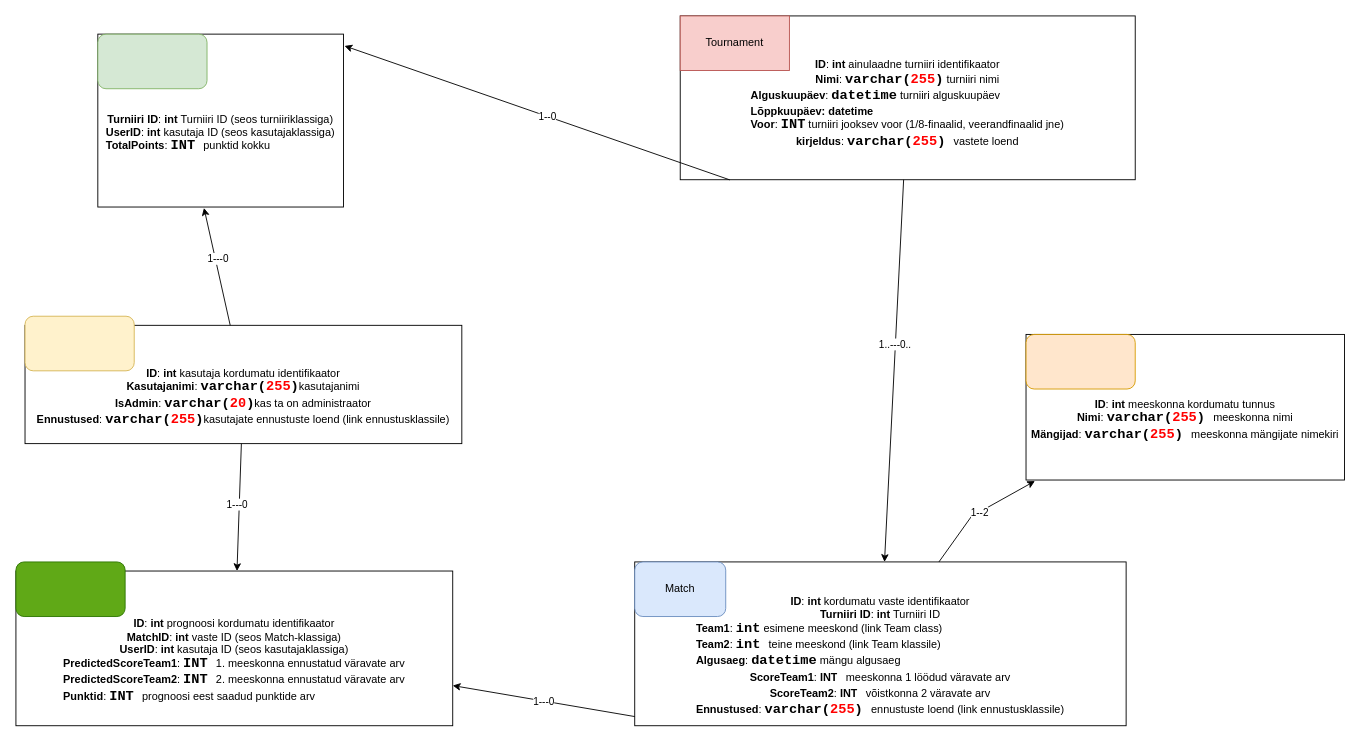
This 1360x742 diagram has some shape labels left out. The shapes that lost their labels are listed below. From the top down, each one's centre as x and y in pixels, then its label:
the point at 152,61: Ranking
the point at 79,343: User
the point at 1080,361: Team
the point at 70,589: Prediction
